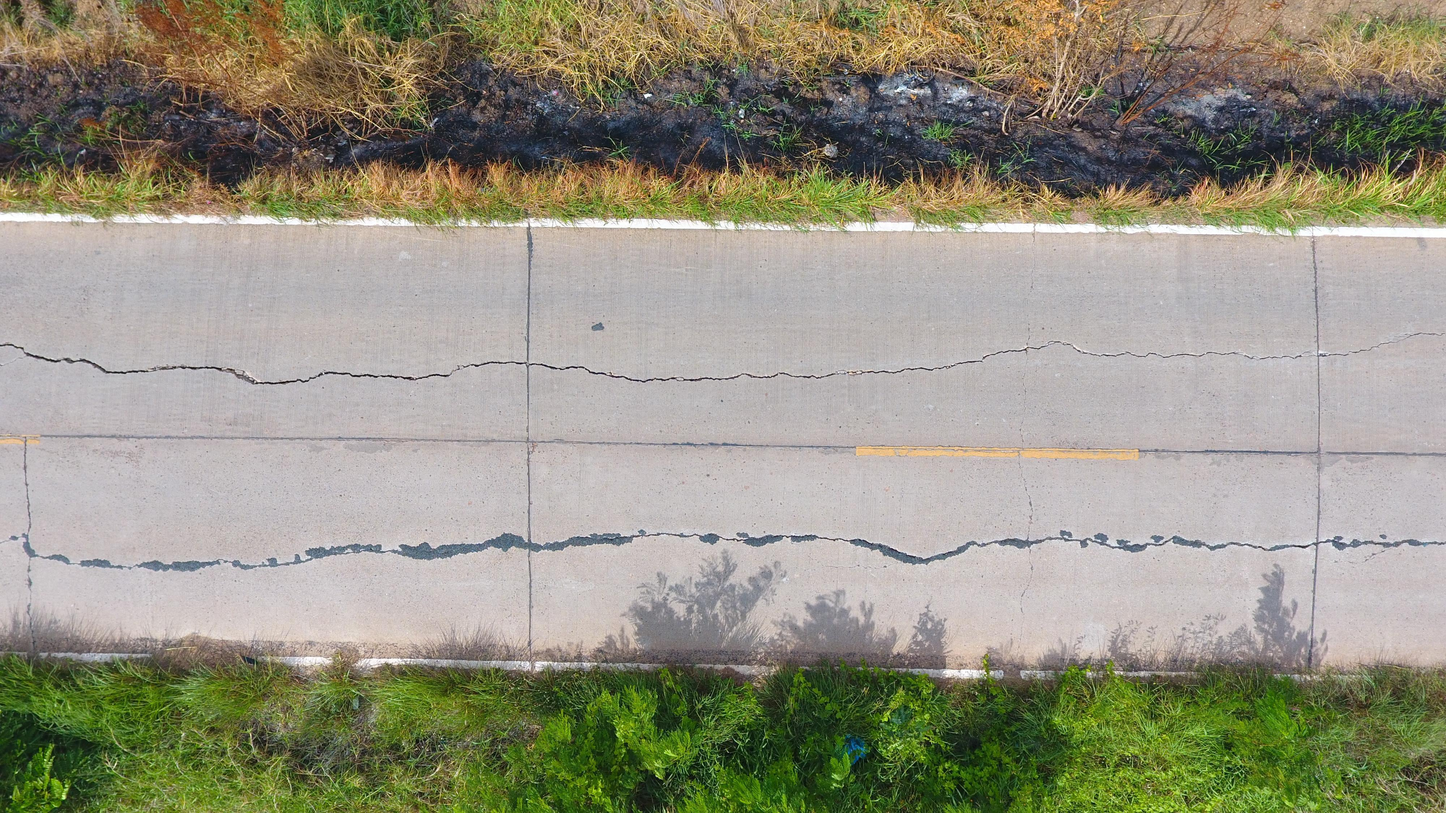GRIETA: (529, 340, 1302, 383), (0, 343, 526, 385), (23, 533, 528, 572), (531, 530, 1027, 565), (530, 439, 1023, 453), (1029, 529, 1316, 553), (0, 435, 526, 446), (1016, 454, 1033, 657), (1319, 332, 1446, 357), (1021, 447, 1318, 457), (1318, 536, 1446, 551), (526, 226, 533, 443), (1308, 542, 1318, 668), (527, 443, 532, 661), (23, 437, 32, 534), (1019, 350, 1028, 447), (1312, 236, 1319, 356), (27, 557, 36, 650), (1324, 451, 1446, 457), (1316, 454, 1322, 541), (1317, 356, 1321, 454), (0, 533, 29, 544)
